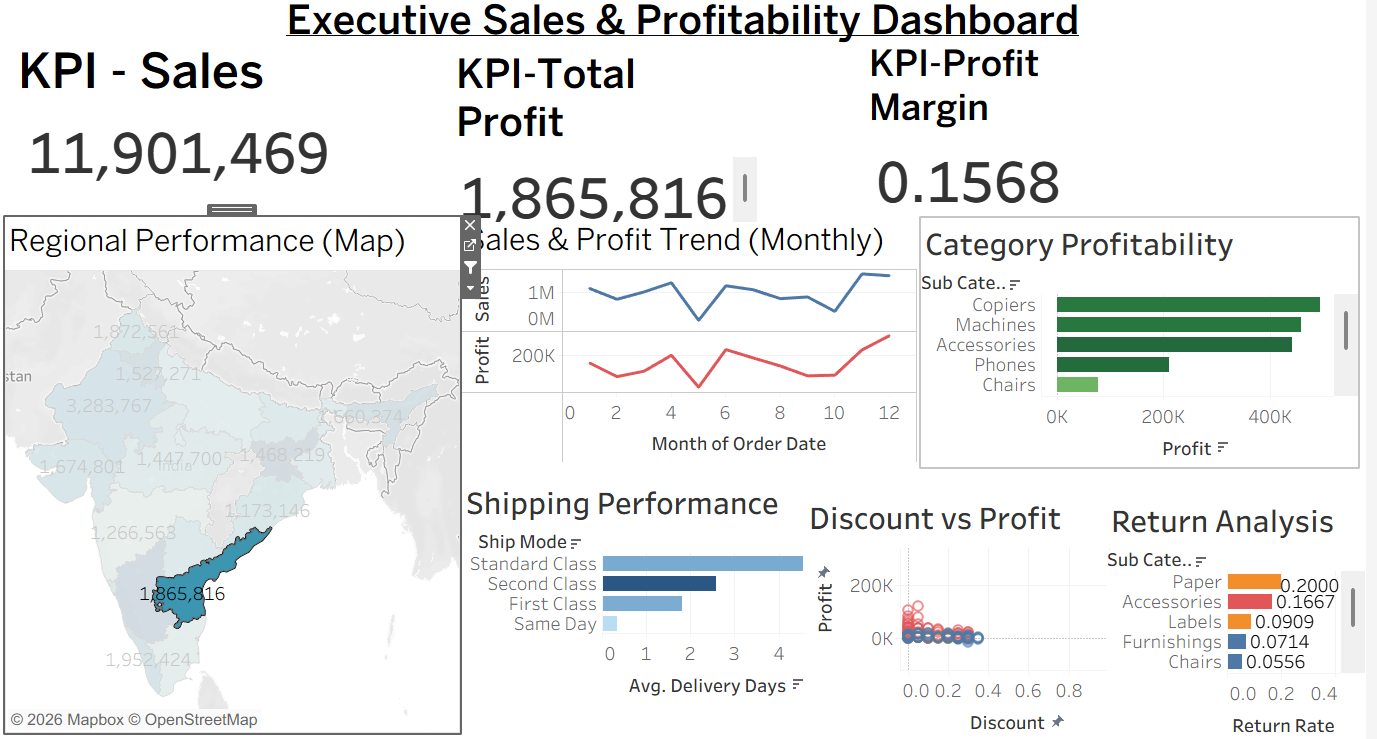

The dashboard page shown, as its layout file describes it:
{"tool":"tableau","page":{"name":"Executive Dashboard","canvas":[1366,768],"ordinal":0},"visuals":[{"type":"title","box":[8,8,1350,56]},{"type":"worksheet","title":"KPI - Profit Margin","mark":"Automatic","box":[865,54,430,189]},{"type":"worksheet","title":"KPI - Sales","mark":"Automatic","box":[14,55,443,184]},{"type":"worksheet","title":"KPI - Total Profit","mark":"Automatic","box":[452,62,416,176]},{"type":"worksheet","title":"Sales Trend","mark":"Automatic","rows":["sales","profit"],"cols":["order_date"],"box":[462,232,455,247]},{"type":"worksheet","title":"Regional Performance","mark":"Automatic","box":[5,233,455,516]},{"type":"worksheet","title":"Category Profitability","mark":"Automatic","rows":["sub_category"],"cols":["profit"],"box":[921,234,437,249]},{"type":"worksheet","title":"Shipping Performance","mark":"Automatic","rows":["ship_mode"],"cols":["delivery_days"],"box":[462,493,351,249]},{"type":"worksheet","title":"Discount vs Profit","mark":"Automatic","rows":["profit"],"cols":["discount"],"box":[805,508,310,249]},{"type":"worksheet","title":"Return Analysis","mark":"Automatic","rows":["sub_category"],"cols":["Calculation_0705079033507845"],"box":[1107,511,258,249]}]}

Visuals, with their boxes on the page's 1366x768 design canvas (x1, y1, x2, y2). These are canvas units, not pixel positions in the 1377x739 screenshot, which may show the page scaled, cropped or inside an application window:
title: <bbox>8, 8, 1358, 64</bbox>
"KPI - Profit Margin" worksheet: <bbox>865, 54, 1295, 243</bbox>
"KPI - Sales" worksheet: <bbox>14, 55, 457, 239</bbox>
"KPI - Total Profit" worksheet: <bbox>452, 62, 868, 238</bbox>
"Sales Trend" worksheet: <bbox>462, 232, 917, 479</bbox>
"Regional Performance" worksheet: <bbox>5, 233, 460, 749</bbox>
"Category Profitability" worksheet: <bbox>921, 234, 1358, 483</bbox>
"Shipping Performance" worksheet: <bbox>462, 493, 813, 742</bbox>
"Discount vs Profit" worksheet: <bbox>805, 508, 1115, 757</bbox>
"Return Analysis" worksheet: <bbox>1107, 511, 1365, 760</bbox>
